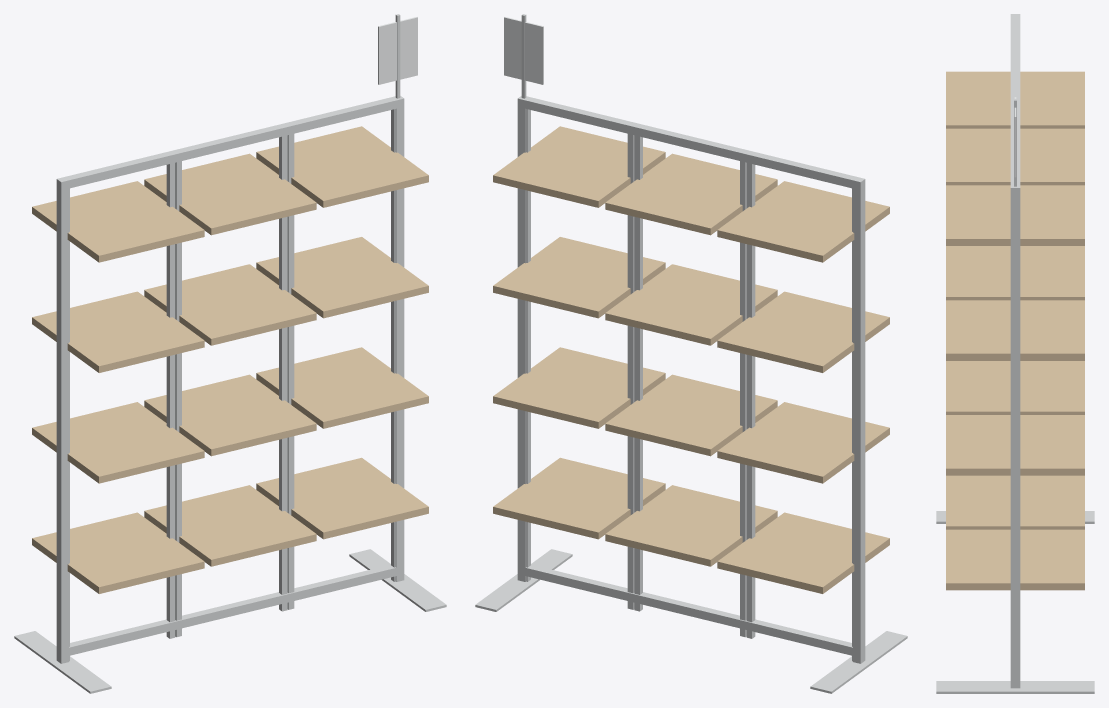
The picture shows the model from 3 angles, left to right: view 1: azimuth 30°, elevation 25°; view 2: azimuth 150°, elevation 25°; view 3: azimuth 270°, elevation 25°; orthographic projection. The views are drawn at different scales.
Size of the model in its own units: 1.38 by 2.05 by 0.5.
